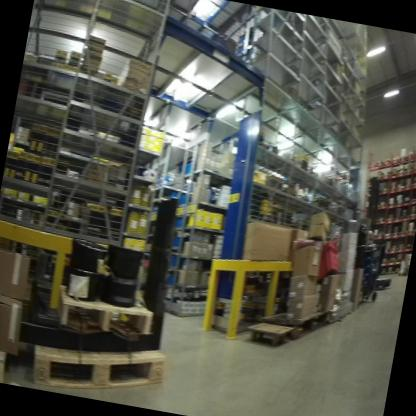pallet: (20, 325, 175, 411), (49, 277, 165, 347), (256, 295, 334, 354), (241, 314, 296, 355), (0, 334, 22, 383)
small_load_carrier: (315, 238, 346, 281)
stillage: (176, 0, 251, 62)
